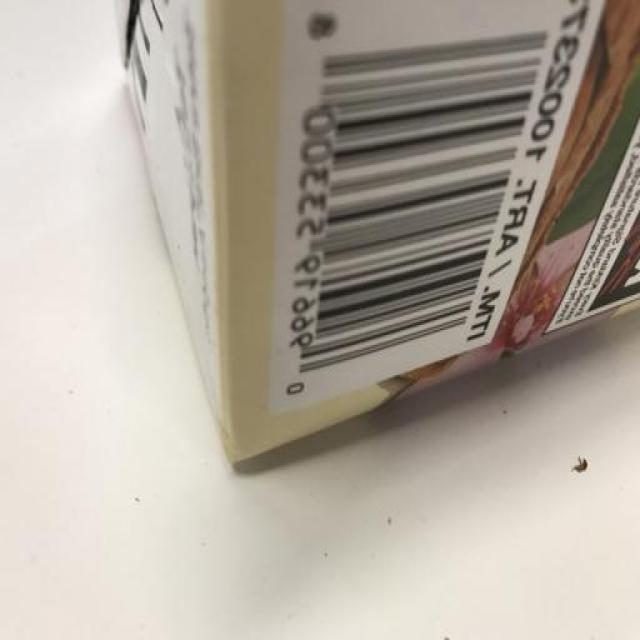cardboard: (119, 0, 640, 468)
